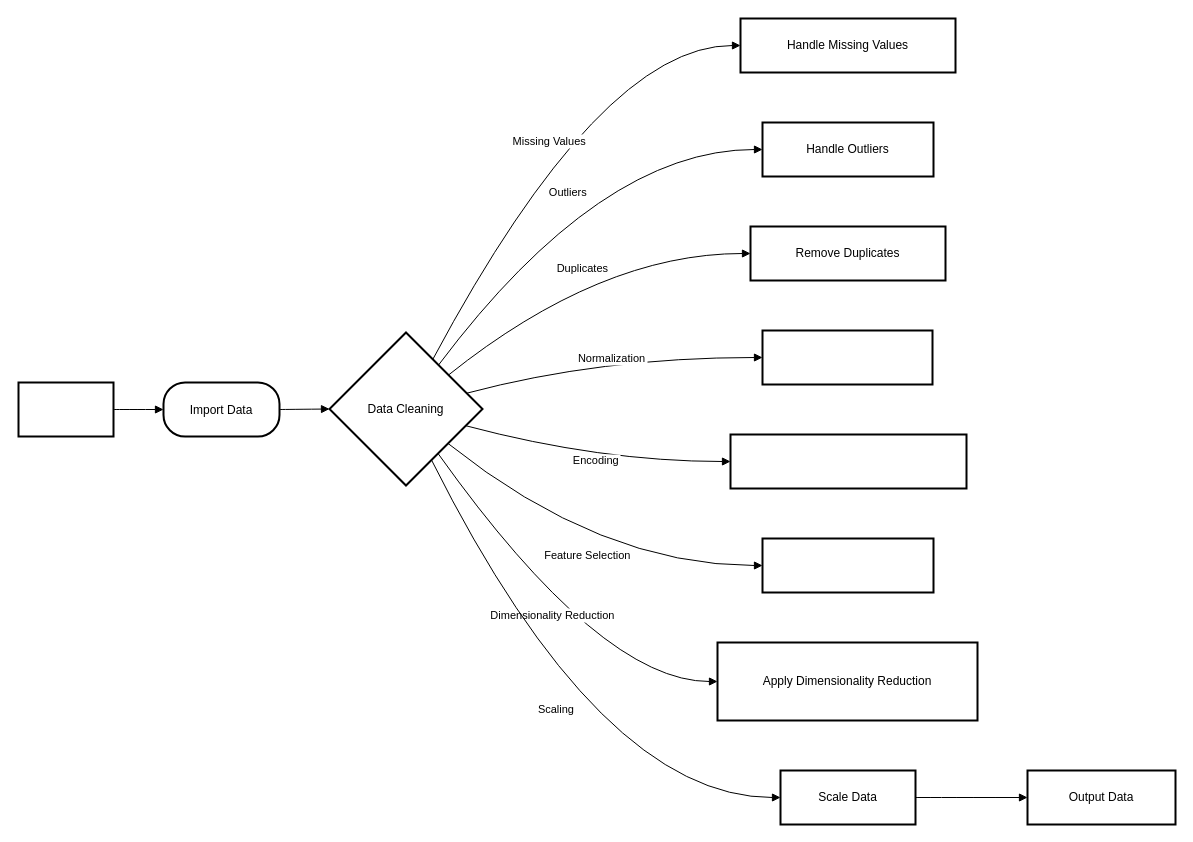
Image size: 1193x842. Some labels were removed from this diagram. Each missing label, with the box of its shape:
Encode Categorical Data: (729, 433, 967, 489)
Normalize Data: (761, 329, 933, 385)
Select Features: (761, 537, 934, 593)
Start: (17, 381, 114, 437)
